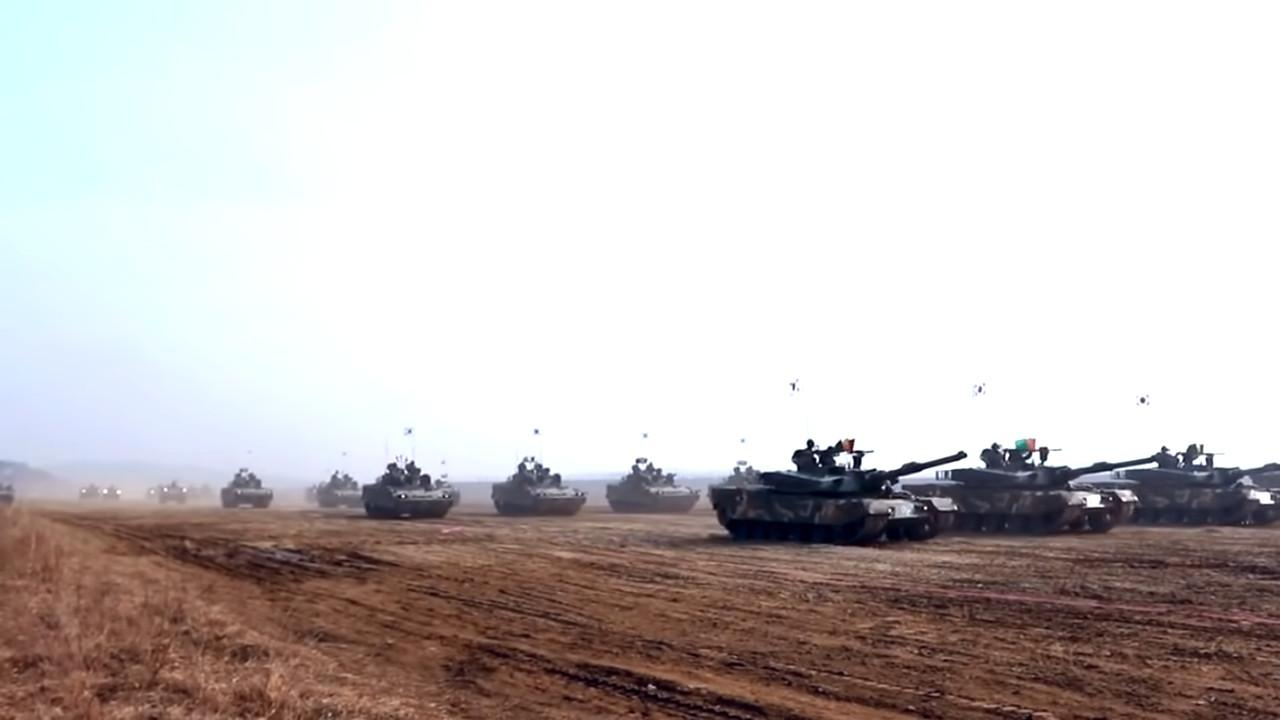tank: (707, 450, 967, 546), (901, 456, 1159, 534), (1093, 463, 1279, 527), (490, 462, 588, 516), (359, 464, 453, 517), (606, 466, 700, 513)
